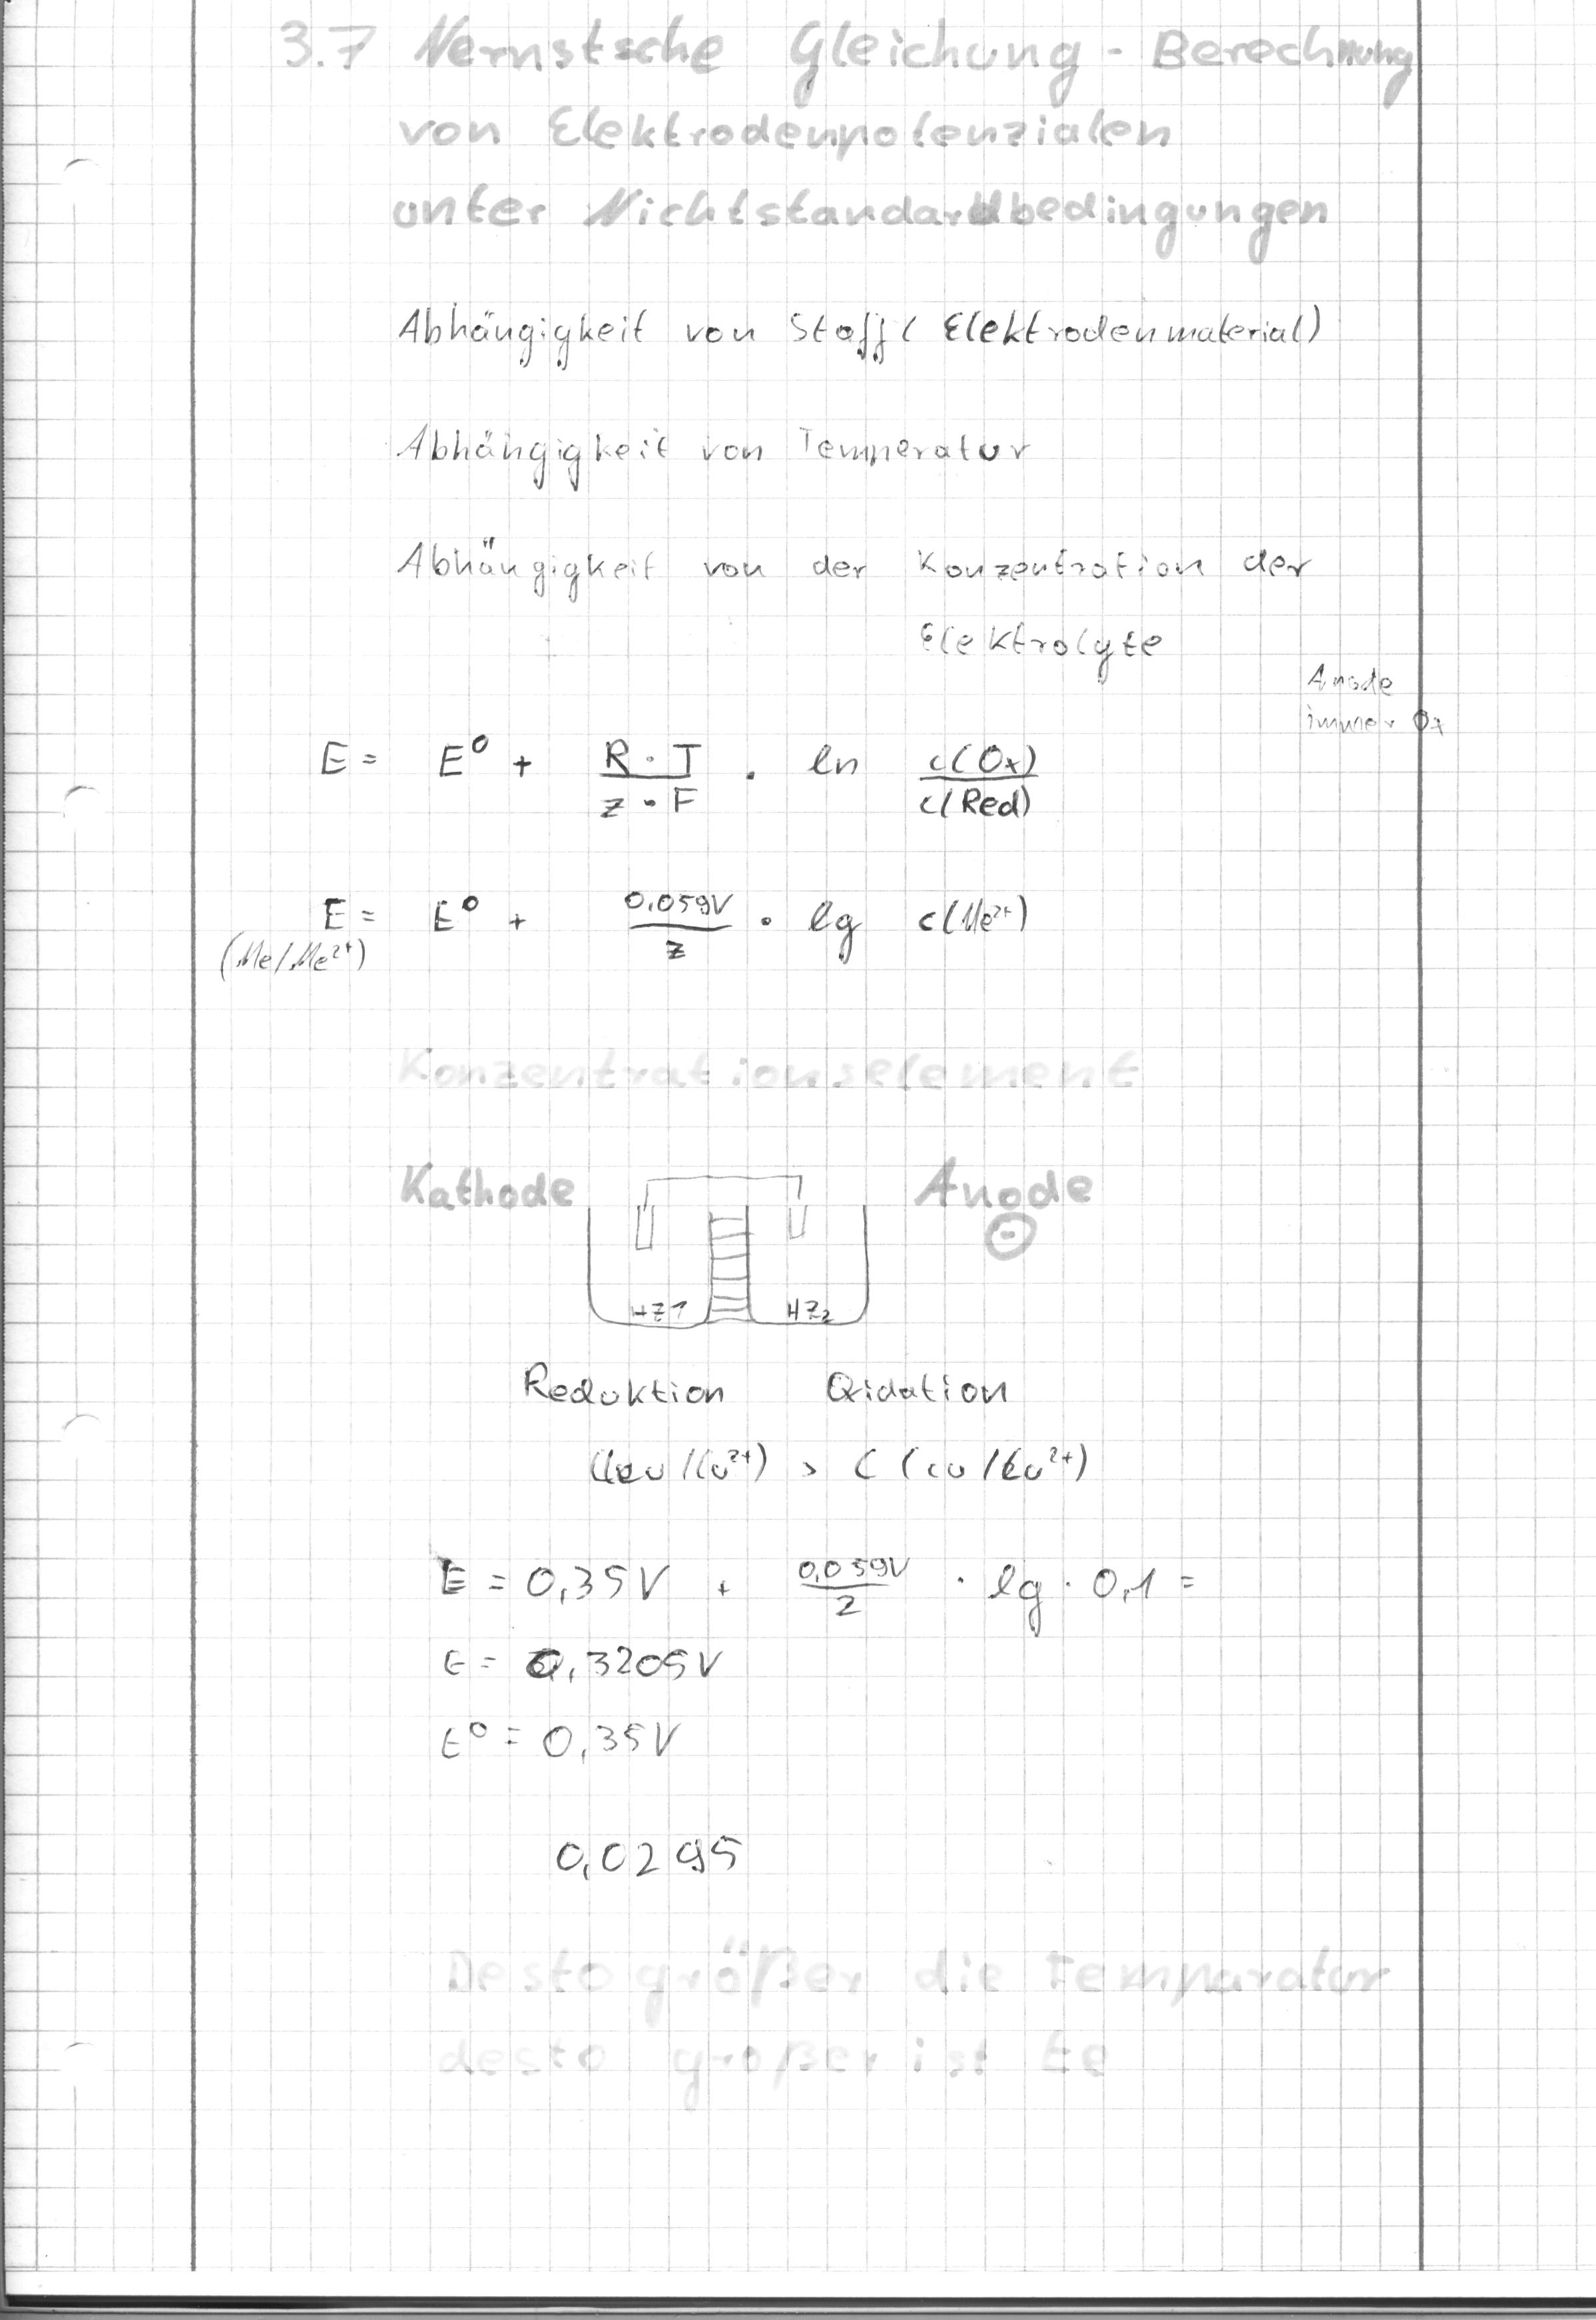word: (386, 524, 1319, 689), (196, 879, 1035, 1010), (305, 716, 1056, 846), (506, 1346, 1107, 1507), (380, 280, 1334, 380), (397, 1538, 748, 1789), (384, 410, 1044, 503), (783, 1532, 1208, 1655), (536, 1816, 774, 1910), (1295, 651, 1450, 744)
